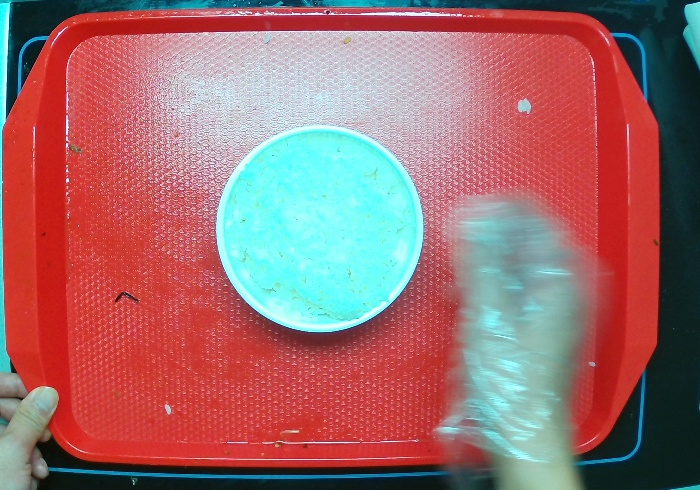YKMZ-Fan_Wan: (215, 123, 425, 333)
